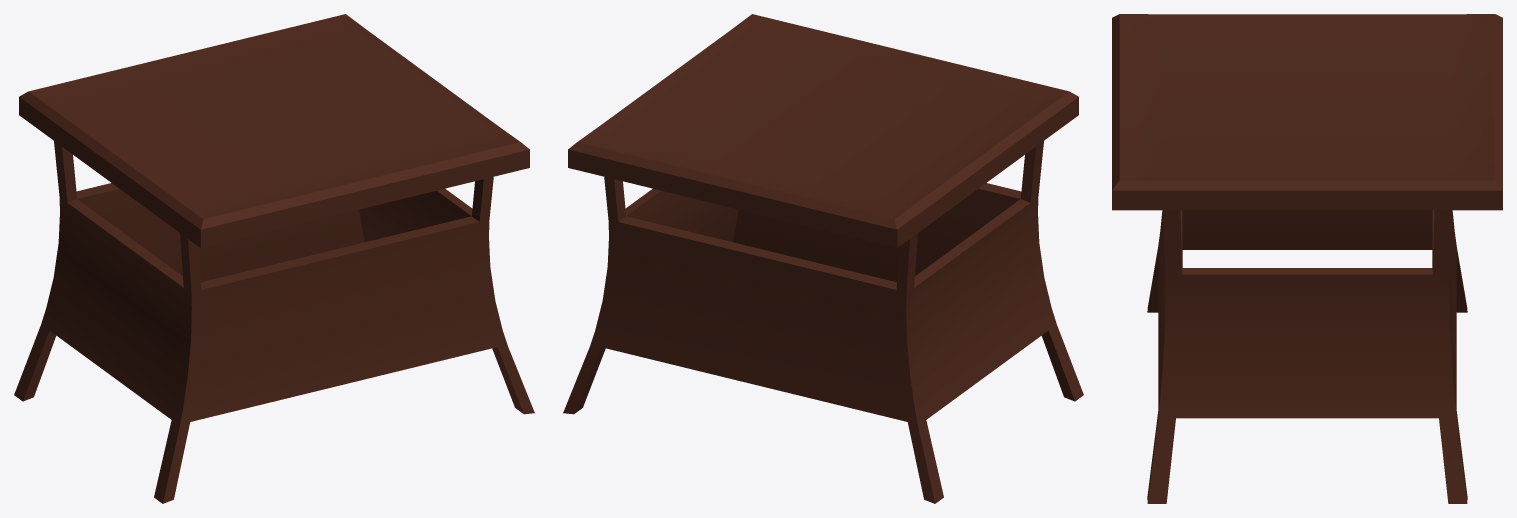
File: GarTable.fbx
The picture shows the model from 3 angles, left to right: view 1: azimuth 30°, elevation 25°; view 2: azimuth 150°, elevation 25°; view 3: azimuth 270°, elevation 25°; orthographic projection. The views are drawn at different scales.
Visible parts, largest first — view 1: SmallTable; view 2: SmallTable; view 3: SmallTable.
Boxes of the visible parts, bbox=[...] form: SmallTable: bbox=[14, 14, 534, 503]; SmallTable: bbox=[563, 14, 1083, 503]; SmallTable: bbox=[1112, 14, 1502, 503].
Size of the model in its own units: 94.59 by 69.8 by 80.
